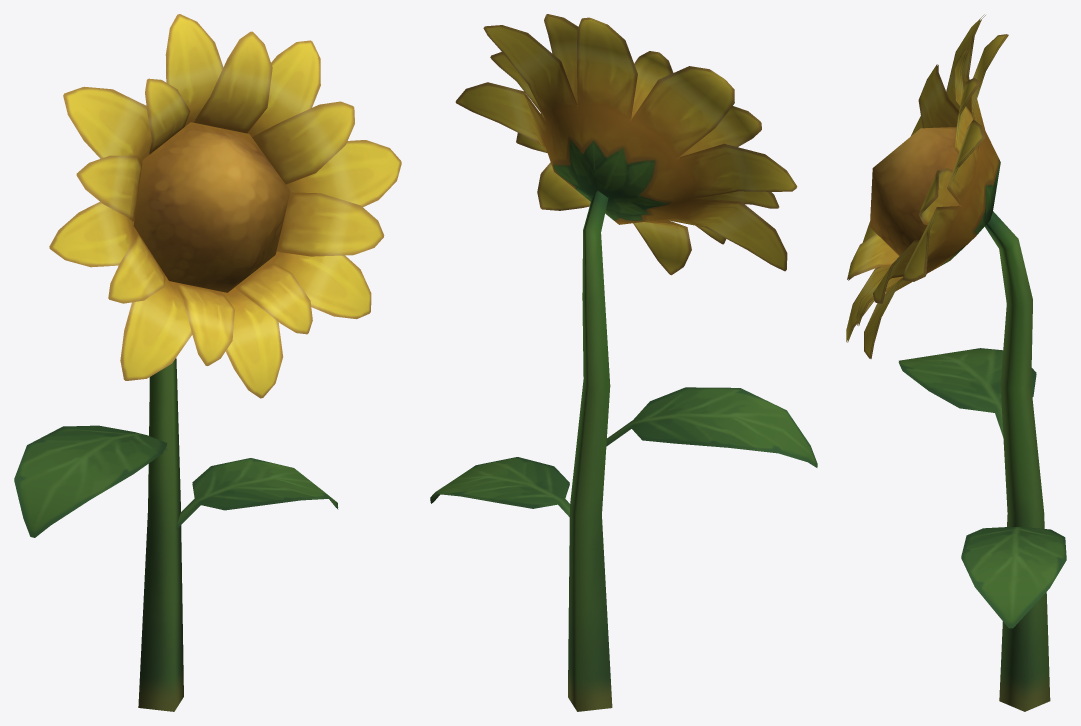
File: Na_Flower_03.FBX
3 renders of one model, left to right at view 1: azimuth 30°, elevation 25°; view 2: azimuth 150°, elevation 25°; view 3: azimuth 270°, elevation 25°, orthographic. The views are drawn at different scales.
Visible parts, largest first — view 1: Na_Flower_03; view 2: Na_Flower_03; view 3: Na_Flower_03.
Boxes of the visible parts, x1,y1,x2,y2 form: Na_Flower_03: (14,14,401,711); Na_Flower_03: (430,14,817,711); Na_Flower_03: (846,14,1066,711).
Size of the model in its own units: 0.7972 by 1.42 by 0.4242.
Materials: 1 (1 with a texture image).
